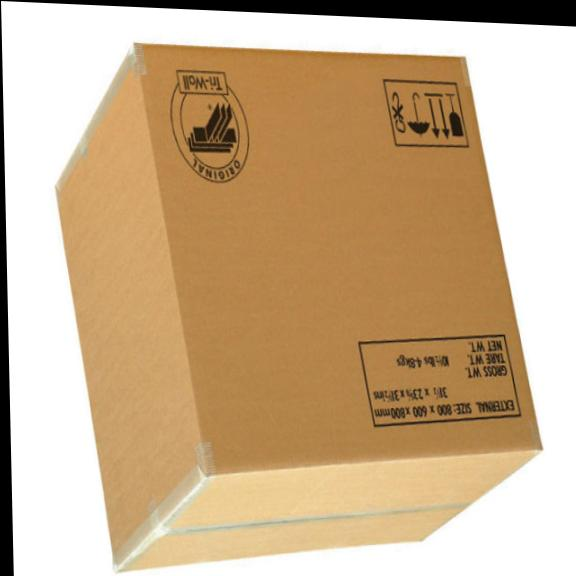Kertas: (57, 45, 540, 570)
